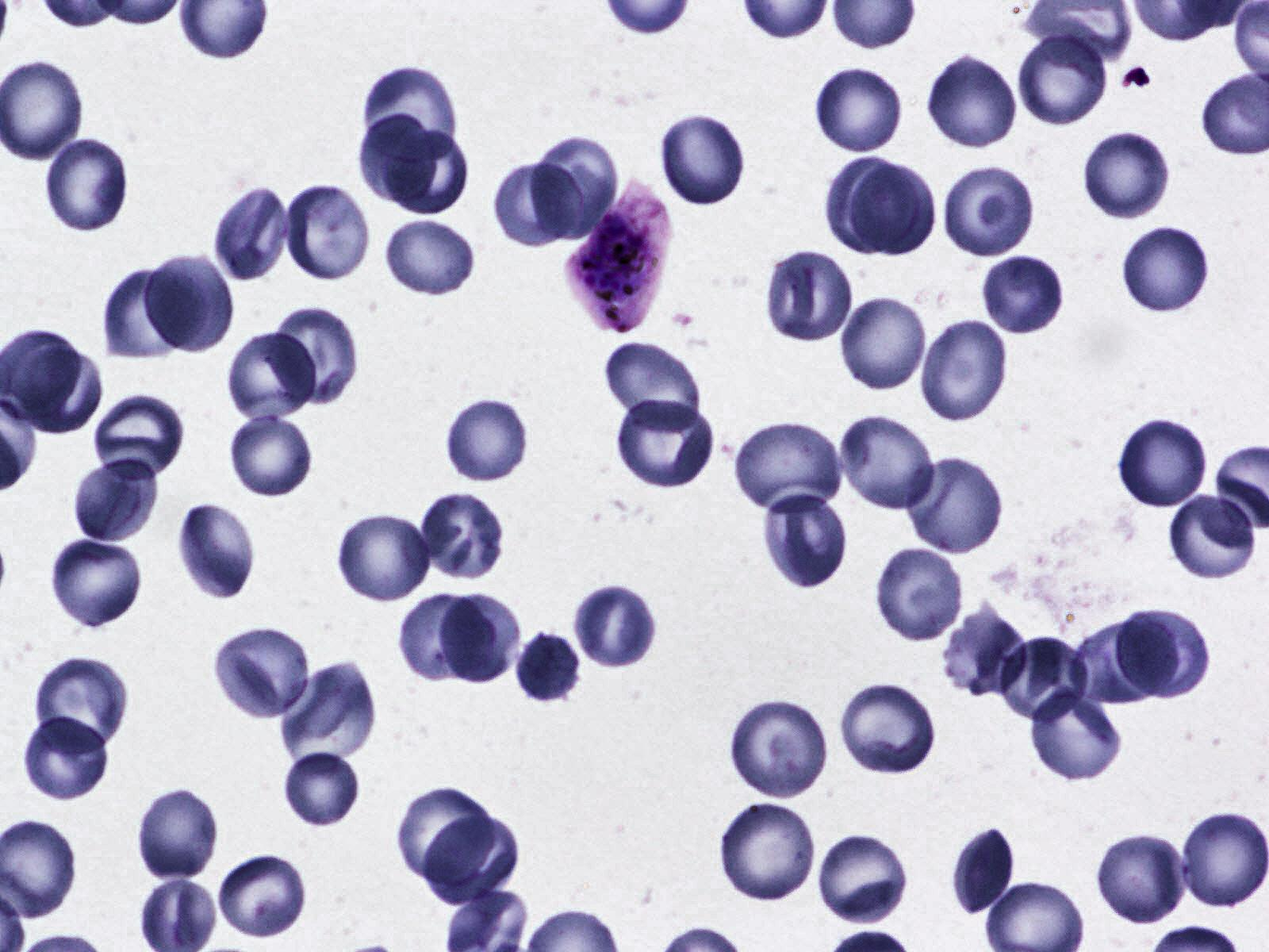Infected: (566, 175, 668, 333)
Uninfected: (731, 418, 848, 516), (725, 697, 830, 801), (903, 455, 1003, 559), (33, 653, 133, 757), (918, 313, 1010, 425), (834, 412, 937, 512), (263, 304, 359, 411), (822, 152, 920, 256), (399, 788, 497, 891), (211, 625, 315, 721), (719, 797, 815, 901), (278, 665, 375, 765), (420, 815, 523, 909), (842, 681, 938, 780), (528, 134, 612, 247), (938, 162, 1034, 260), (1092, 831, 1190, 927), (926, 52, 1021, 151), (1015, 29, 1110, 128), (1176, 807, 1268, 909), (872, 545, 965, 644), (1026, 689, 1124, 782), (210, 182, 297, 286), (1117, 605, 1211, 701), (362, 67, 456, 163), (171, 502, 263, 600), (838, 294, 928, 394), (616, 399, 715, 489), (144, 253, 234, 352), (333, 516, 433, 605), (100, 265, 194, 359), (286, 179, 368, 286), (1116, 416, 1209, 510), (816, 835, 908, 929), (764, 249, 857, 341), (847, 163, 938, 256), (48, 539, 143, 628), (940, 602, 1025, 701), (1077, 620, 1177, 704), (1082, 129, 1171, 221), (814, 63, 904, 153), (94, 390, 186, 478), (489, 162, 577, 254), (43, 136, 128, 231), (604, 347, 699, 432), (1121, 223, 1210, 313), (1170, 489, 1259, 578), (416, 493, 505, 582), (228, 330, 312, 424), (765, 489, 845, 587), (71, 457, 159, 545), (397, 593, 485, 681), (662, 113, 746, 205), (132, 789, 217, 879), (998, 638, 1088, 723), (359, 113, 441, 205), (16, 348, 102, 435), (21, 714, 105, 802), (229, 413, 312, 501), (439, 593, 520, 682), (385, 218, 474, 298), (219, 855, 304, 938), (447, 398, 530, 482), (573, 585, 655, 668), (981, 253, 1063, 336), (389, 127, 468, 212), (951, 825, 1014, 914), (513, 626, 581, 708), (288, 751, 359, 827)
